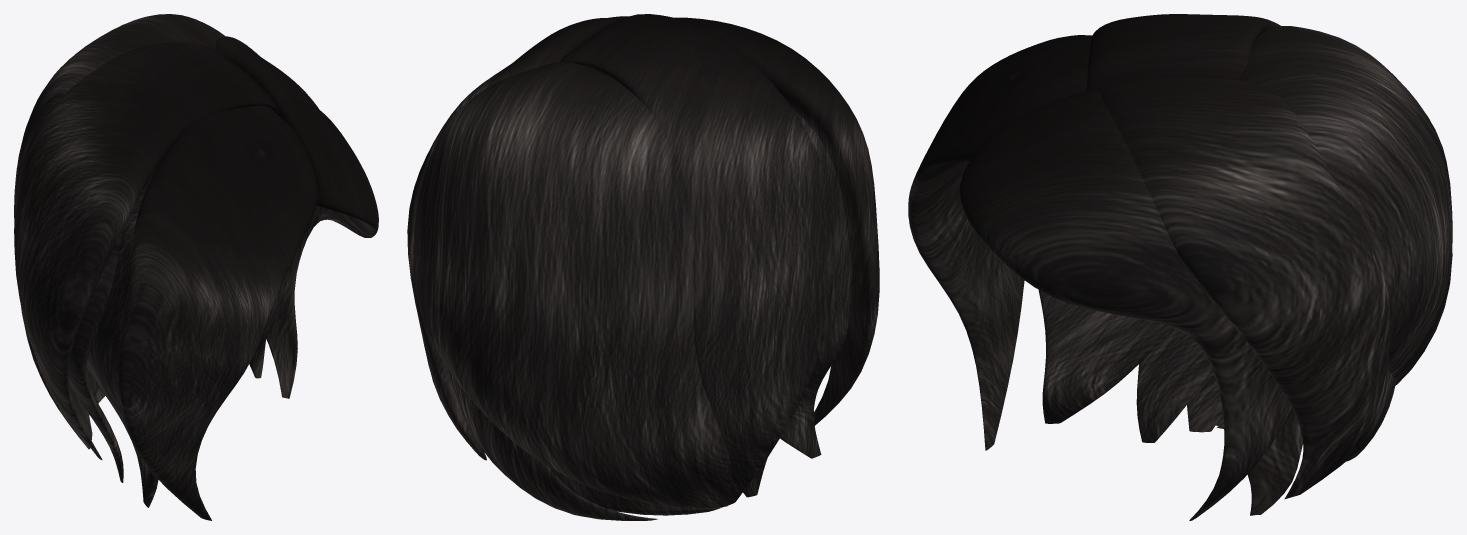
The model's file is mh_elvs_short_side_do.glb.
3 renders of one model, left to right at view 1: azimuth 30°, elevation 25°; view 2: azimuth 150°, elevation 25°; view 3: azimuth 270°, elevation 25°, orthographic. The views are drawn at different scales.
Parts seen in each view (by area): view 1: mh_elvs_short_side_do; view 2: mh_elvs_short_side_do; view 3: mh_elvs_short_side_do.
Part boxes in pixels (x1,y1,x2,y2): mh_elvs_short_side_do: [14, 14, 378, 520]; mh_elvs_short_side_do: [407, 14, 879, 520]; mh_elvs_short_side_do: [908, 14, 1452, 520].
Bounding box in the file's own units: 0.2037 × 0.2526 × 0.2697.
Materials: 1 (1 with a texture image).
